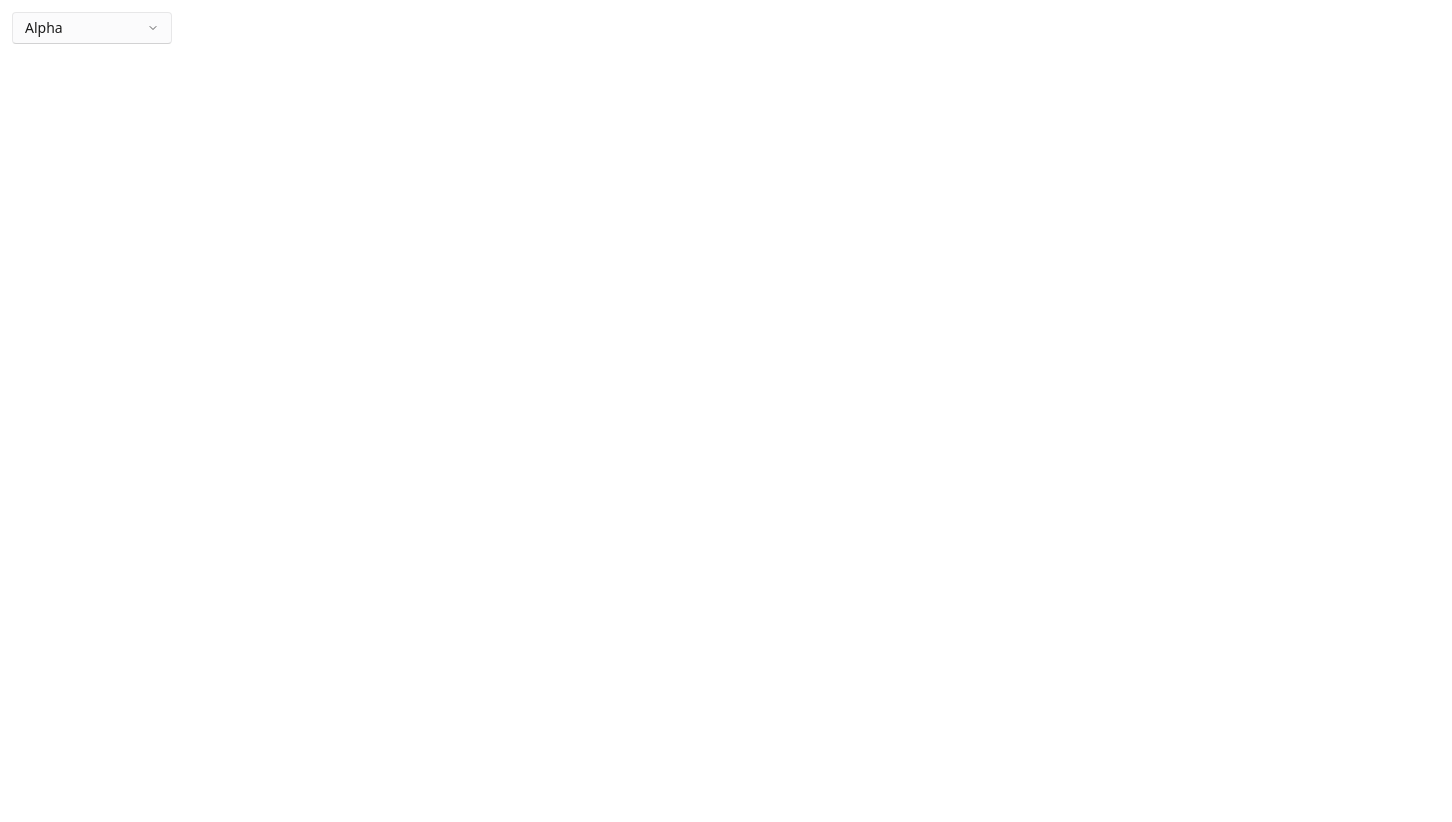
it: ComboBox › selects an option on click and closes on an outside click
The image size is (1452, 822).
Step 1. Click the dropdown → [92, 28], box [12,12,172,44]
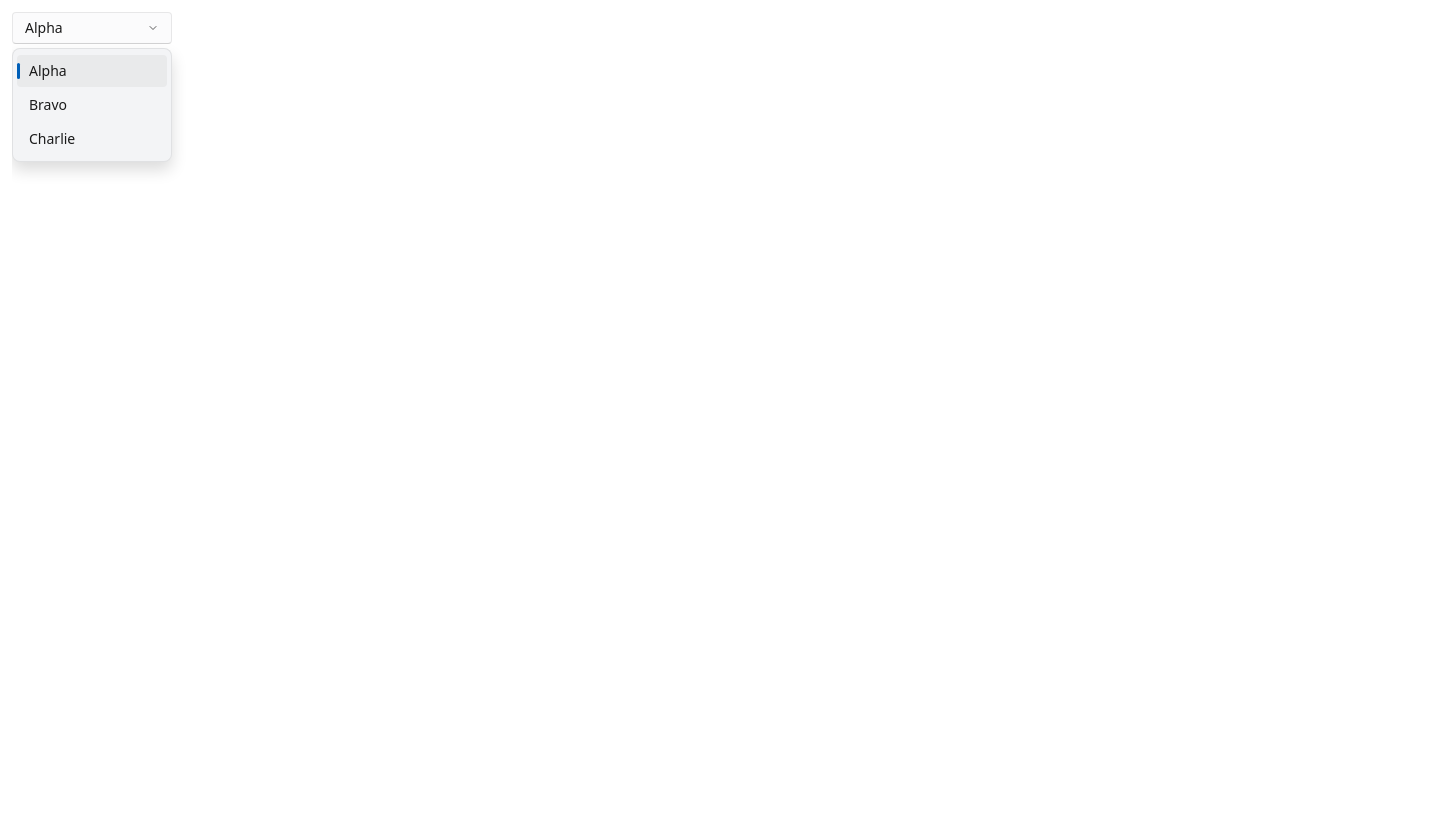
Step 2. Click the option "Bravo" → [48, 104], box [29,95,67,114]
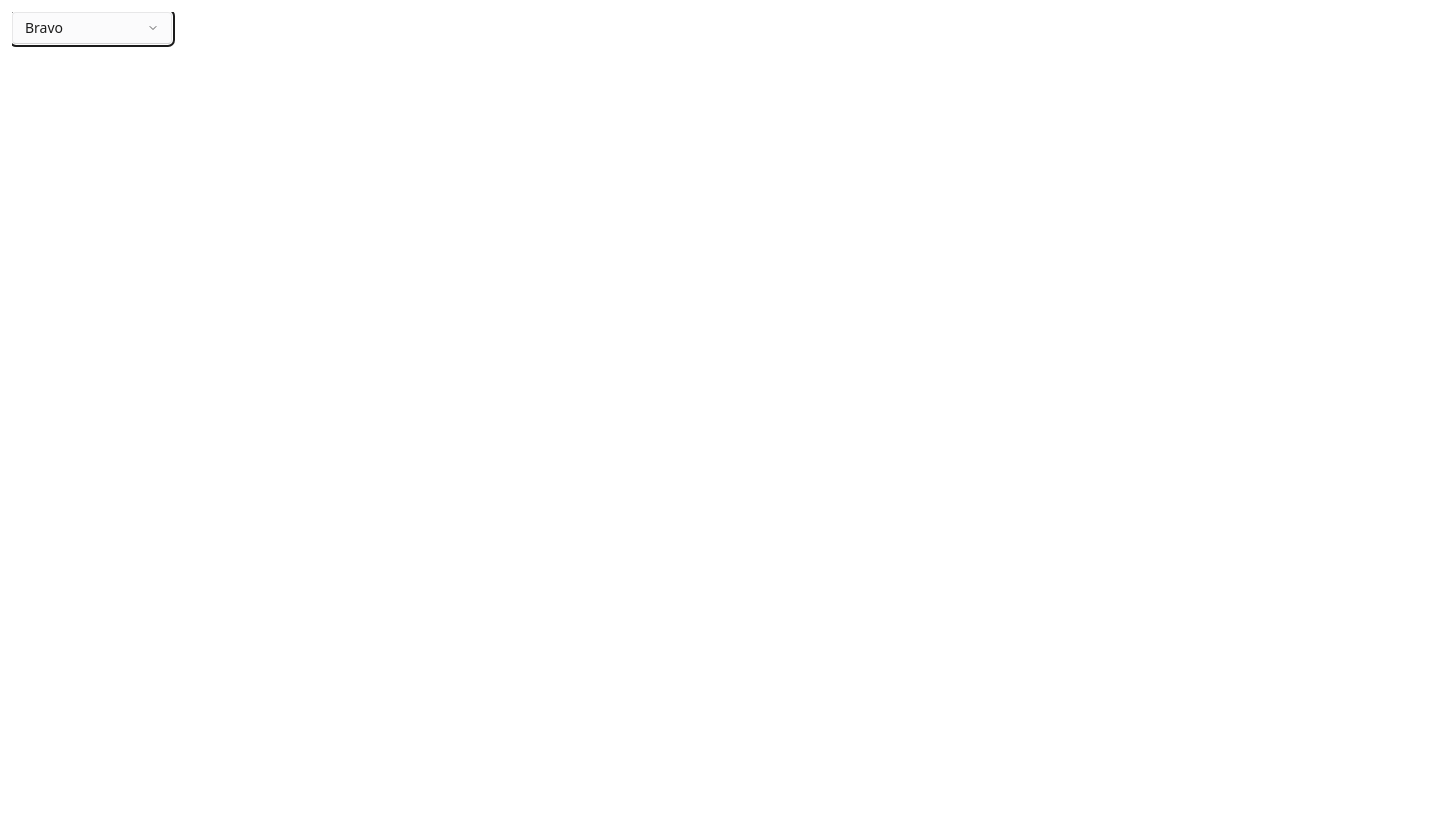
Step 3. Click the dropdown → [92, 28], box [12,12,172,44]
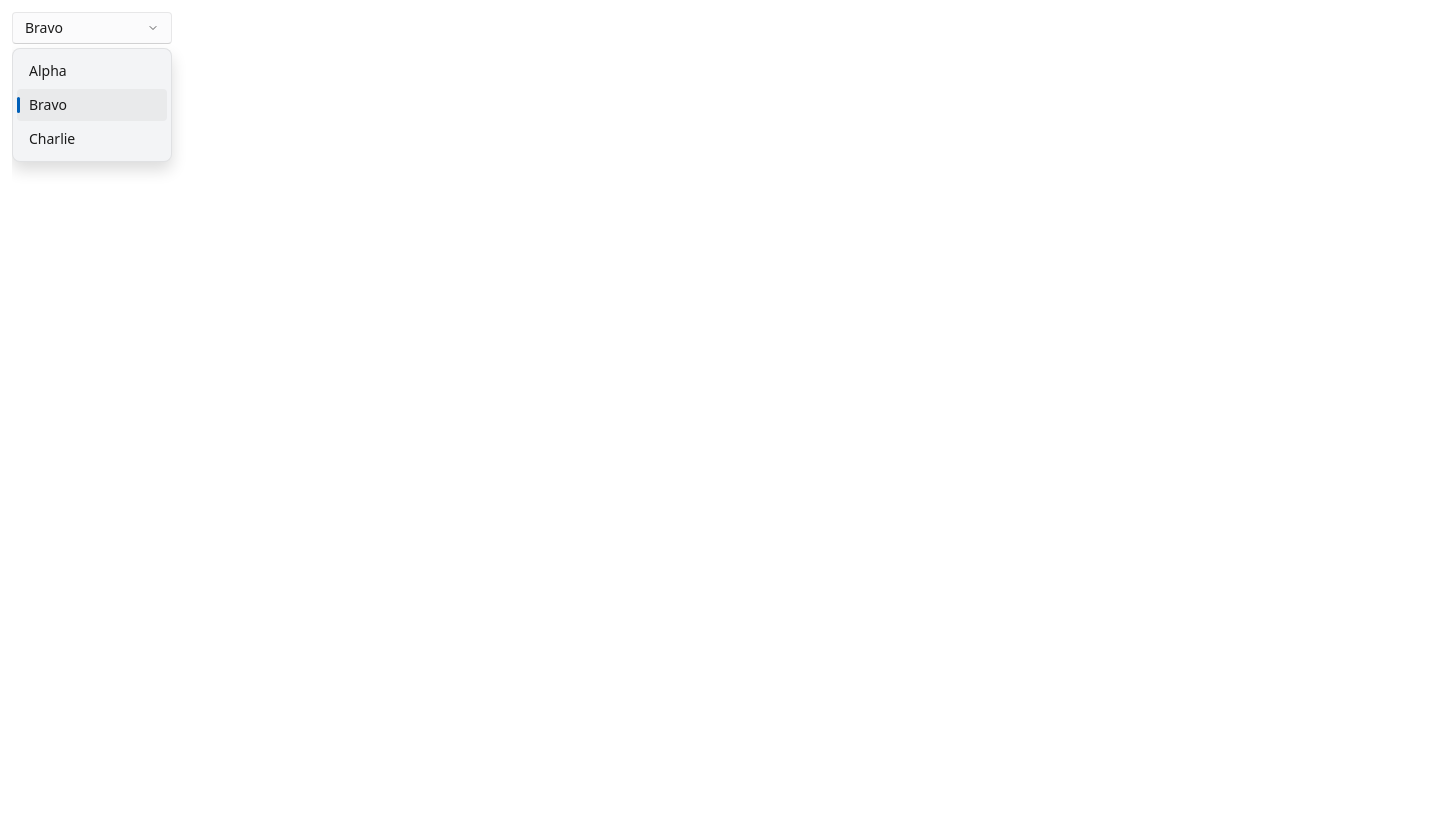
Step 4. Press the mouse on the element showing "Bravo Alpha Bravo Charlie" → [732, 417], box [12,12,1451,821]
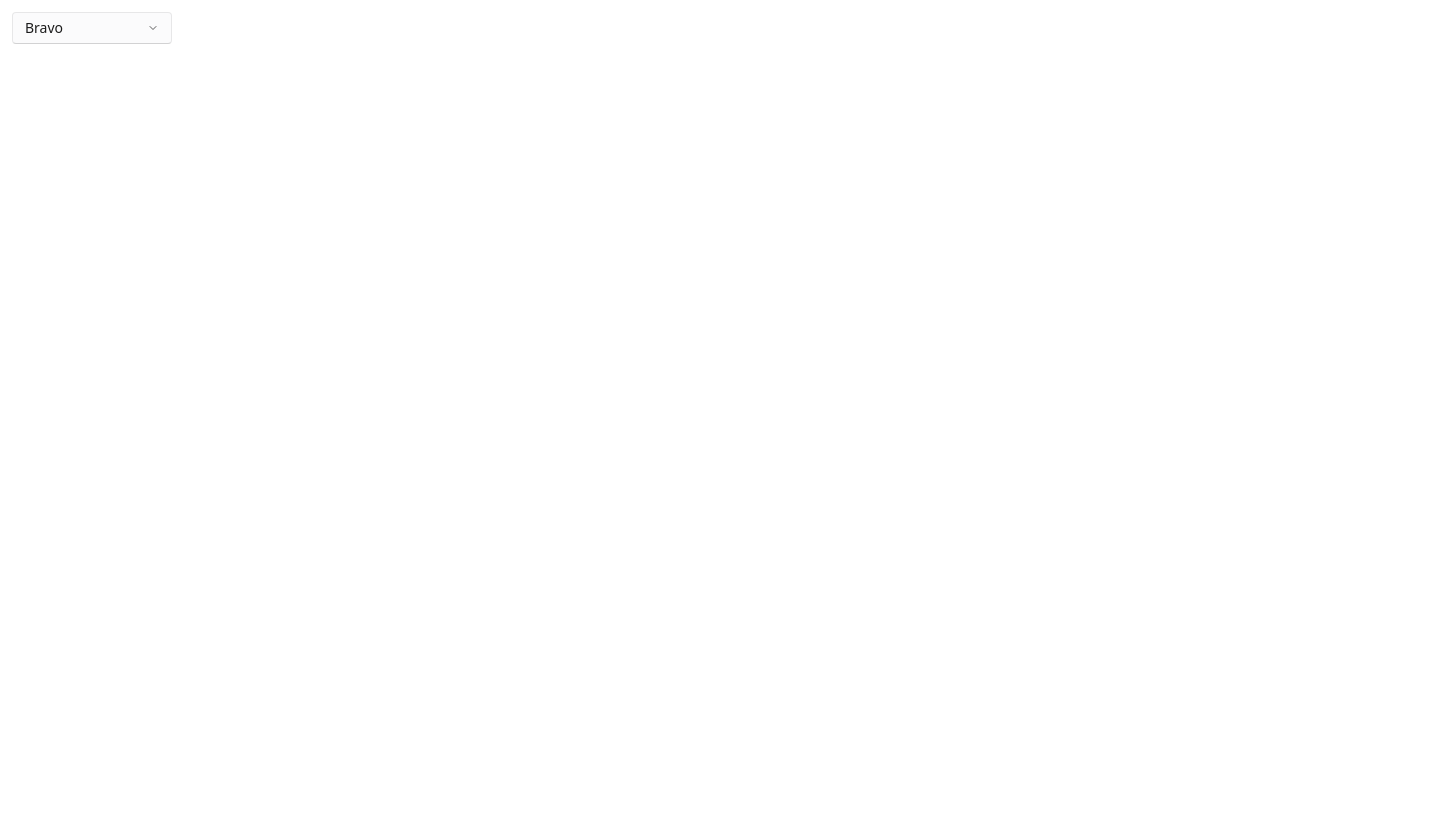
Expected: the list is gone
